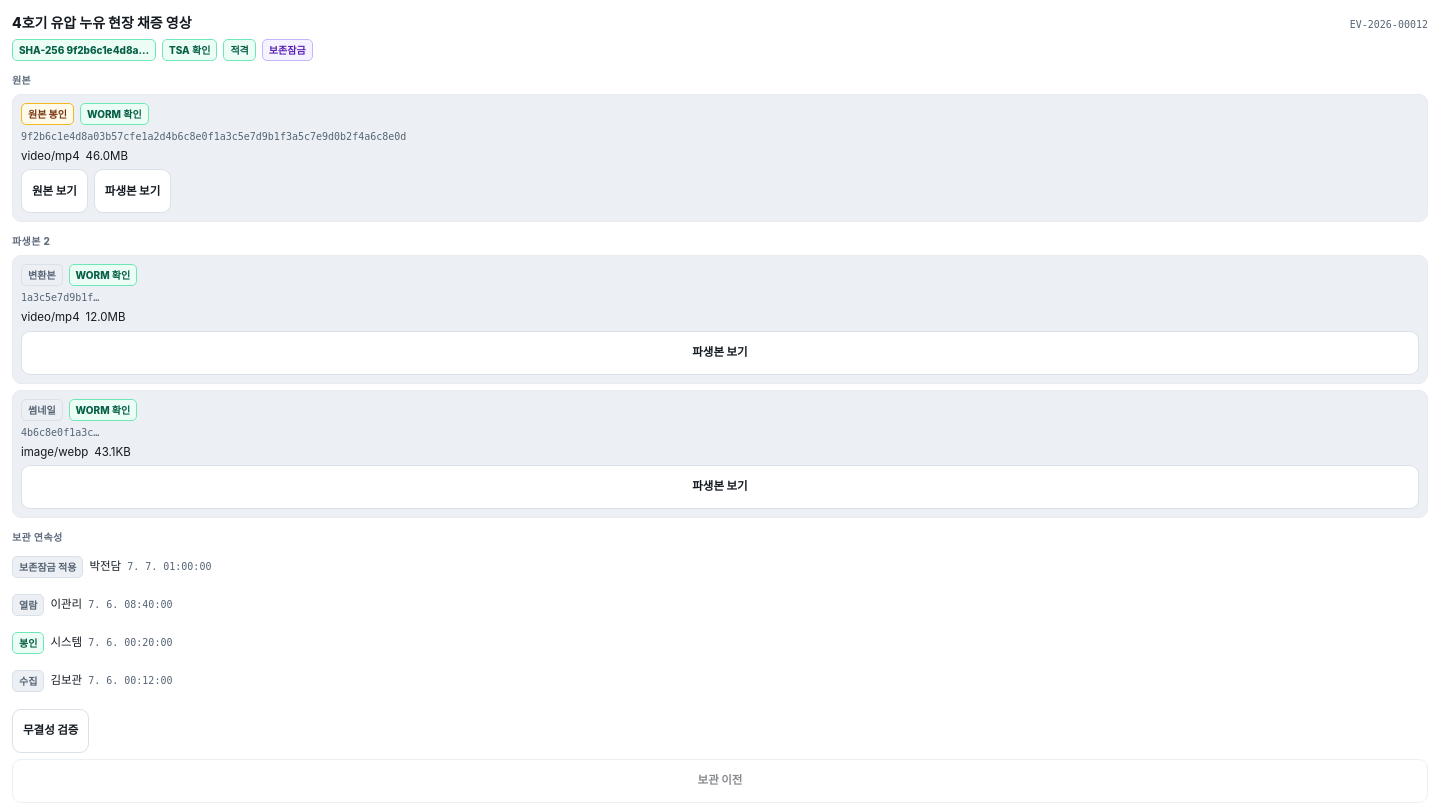
Test: EvidenceCard WORM split › shows the wire-pending derived-preview state on open
The image size is (1440, 805).
Click the button "파생본 보기" below "46.0MB" at (132, 191), box [94,169,171,213]
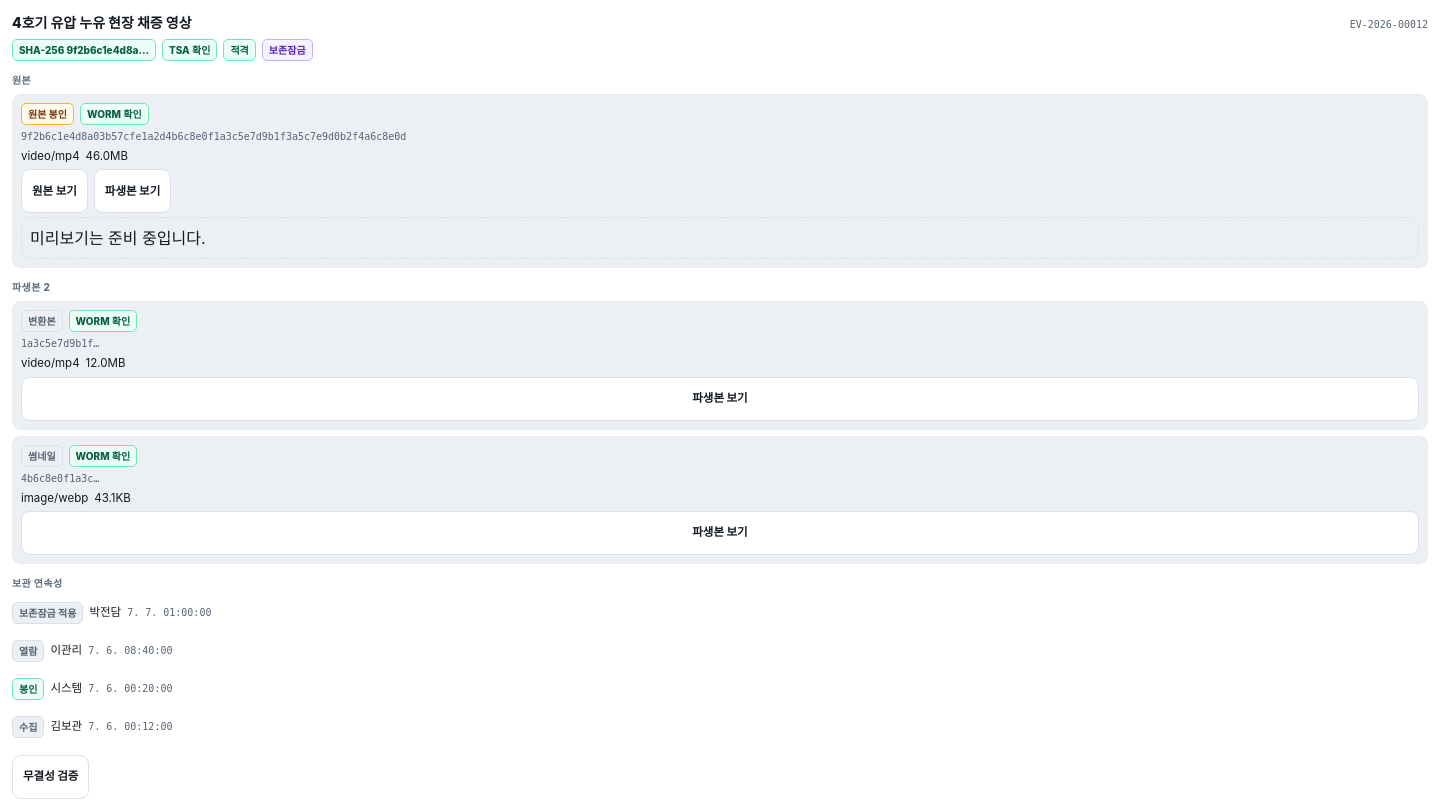
Check: the text "미리보기는 준비 중입니다." is shown, box [21,217,1419,259]
